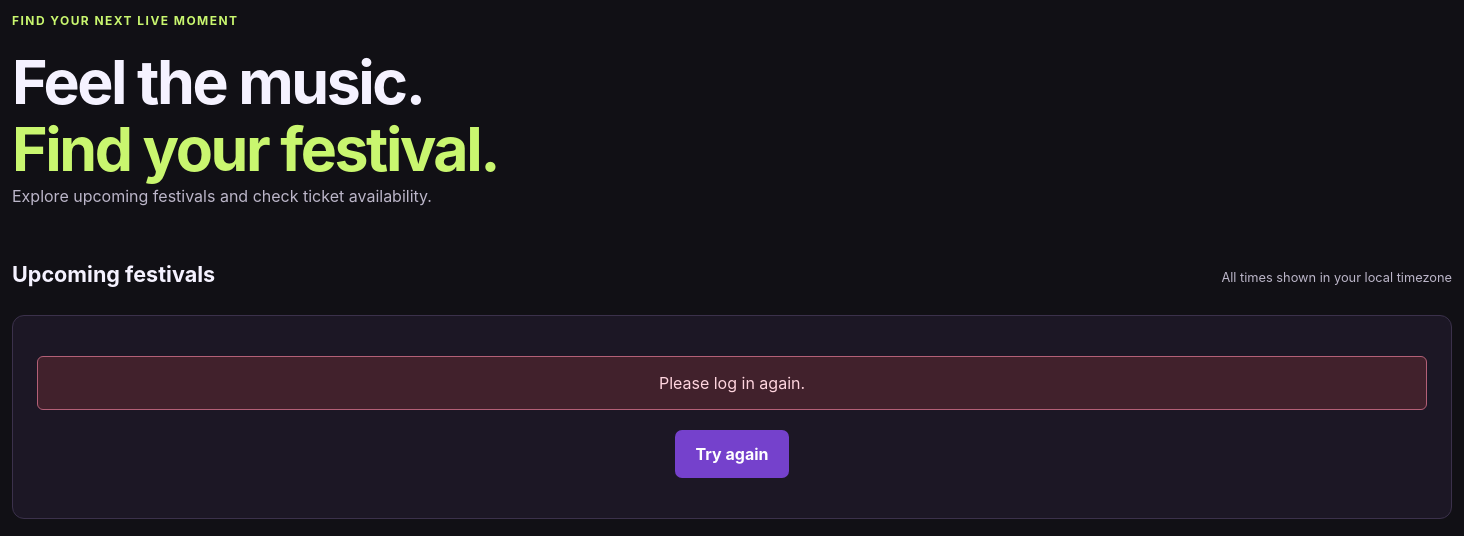
Test case: shows errors and retries without showing a false empty state
The width and height of the screenshot is (1464, 536).
Check: the message "Please log in again." is shown, box [37,356,1427,410]
Check: the text "No upcoming festivals" is not shown
Click the button "Try again". click: (732, 454)
box: [674,430,790,478]
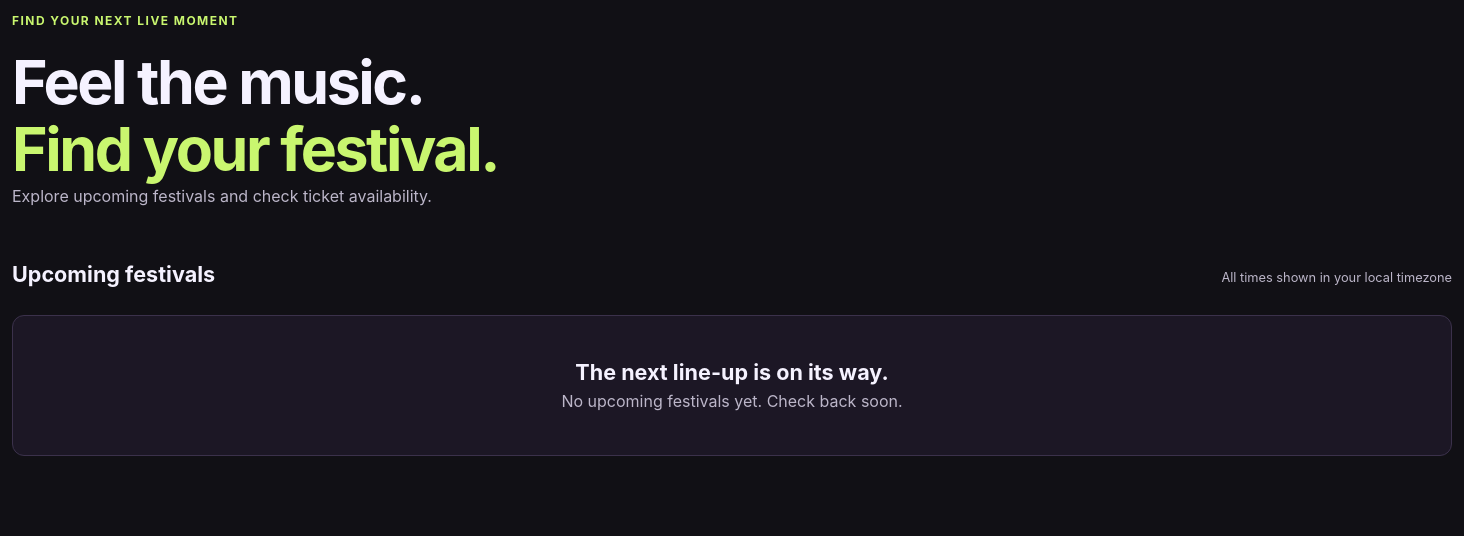
Check: the text "No upcoming festivals" is shown, box [561,391,903,411]
